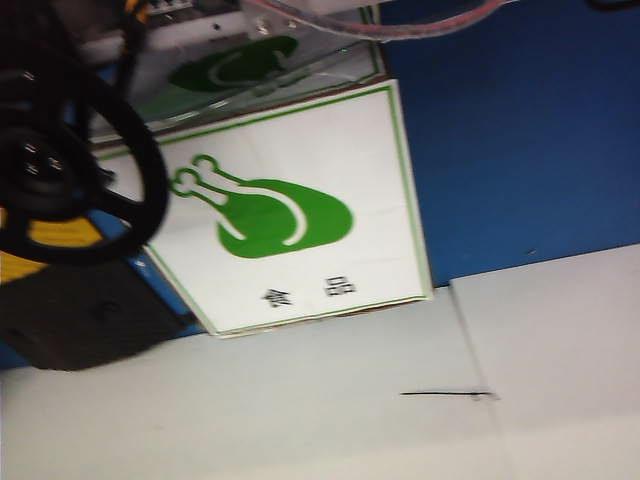Cube_food: (168, 146, 367, 314)
